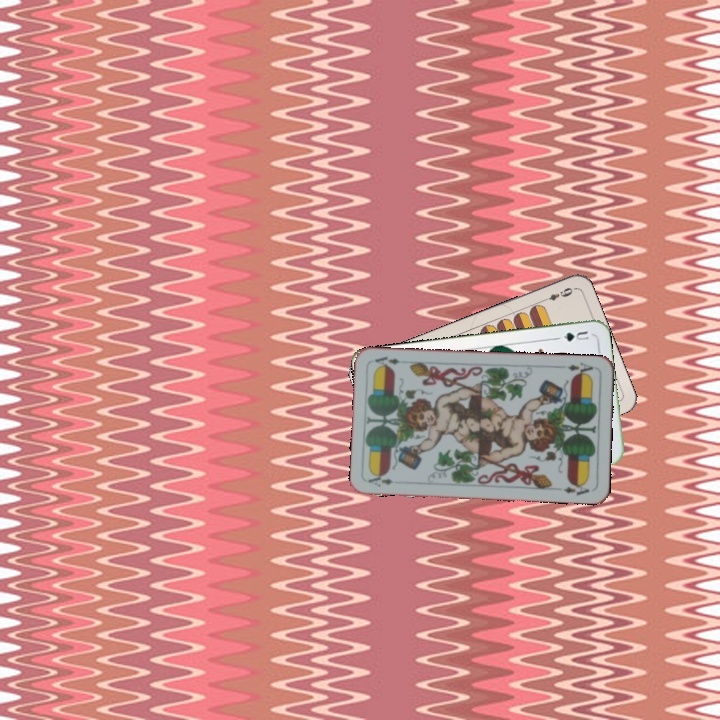E9: (538, 283, 575, 305)
EA: (563, 358, 598, 378), (364, 471, 396, 489)
GU: (559, 327, 591, 344)
